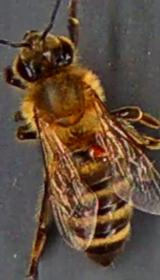varroa_mite: (82, 132, 121, 170)
